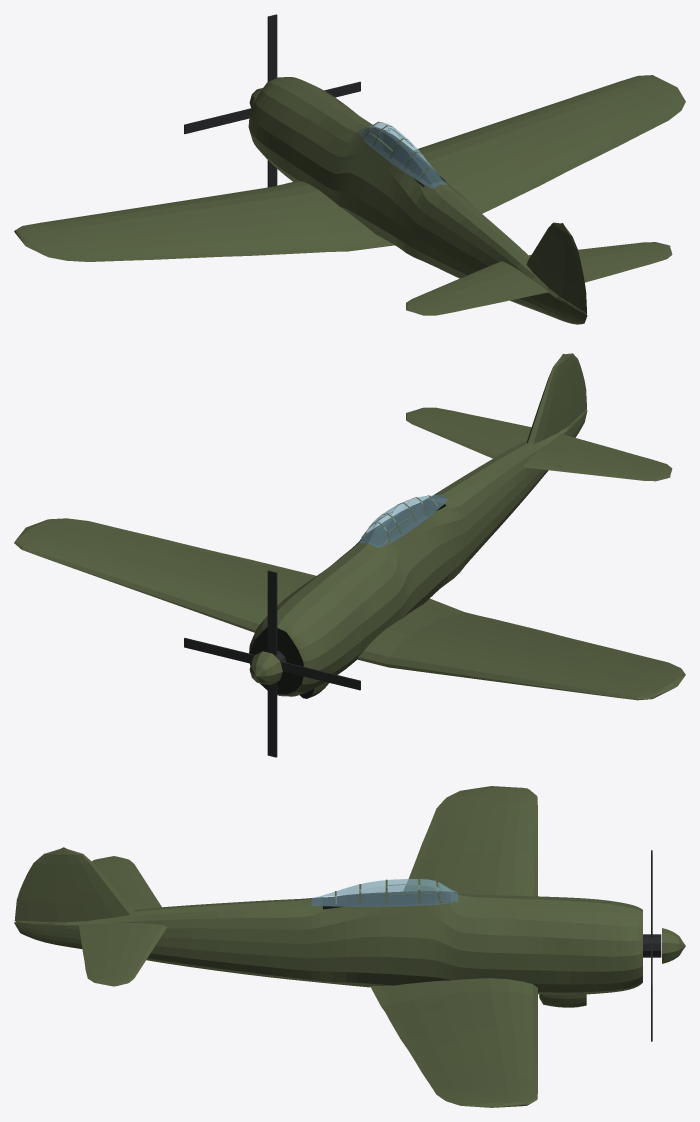
The picture shows the model from 3 angles, top to bottom: view 1: azimuth 30°, elevation 25°; view 2: azimuth 150°, elevation 25°; view 3: azimuth 270°, elevation 25°; orthographic projection.
Visible parts, largest first — view 1: KI84_Wing, KI84_Fuselage, KI84_Tailplane, KI84_Fin, KI84_Glass, KI84_Prop; view 2: KI84_Wing, KI84_Fuselage, KI84_Tailplane, KI84_Prop, KI84_Fin, KI84_Glass, KI84_Spinner; view 3: KI84_Fuselage, KI84_Wing, KI84_Fin, KI84_Tailplane, KI84_Glass, KI84_Spinner, KI84_ChinScoop.
Part boxes in pixels (x1,y1,x2,y2): KI84_Wing: (14, 75, 685, 261); KI84_Fuselage: (248, 77, 587, 324); KI84_Tailplane: (406, 242, 672, 315); KI84_Fin: (526, 222, 586, 313); KI84_Glass: (359, 122, 447, 188); KI84_Prop: (184, 14, 360, 187); KI84_Wing: (14, 518, 685, 700); KI84_Fuselage: (249, 410, 587, 696); KI84_Tailplane: (406, 407, 672, 481); KI84_Prop: (184, 570, 360, 757); KI84_Fin: (527, 353, 586, 443); KI84_Glass: (359, 494, 447, 547); KI84_Spinner: (249, 651, 282, 684); KI84_Fuselage: (14, 891, 642, 994); KI84_Wing: (370, 786, 537, 1107); KI84_Fin: (14, 847, 134, 922); KI84_Tailplane: (79, 856, 166, 986); KI84_Glass: (311, 879, 457, 906); KI84_Spinner: (662, 928, 685, 963); KI84_ChinScoop: (539, 994, 586, 1007).
Bounding box in the file's own units: 11.24 × 3.13 × 9.92.
